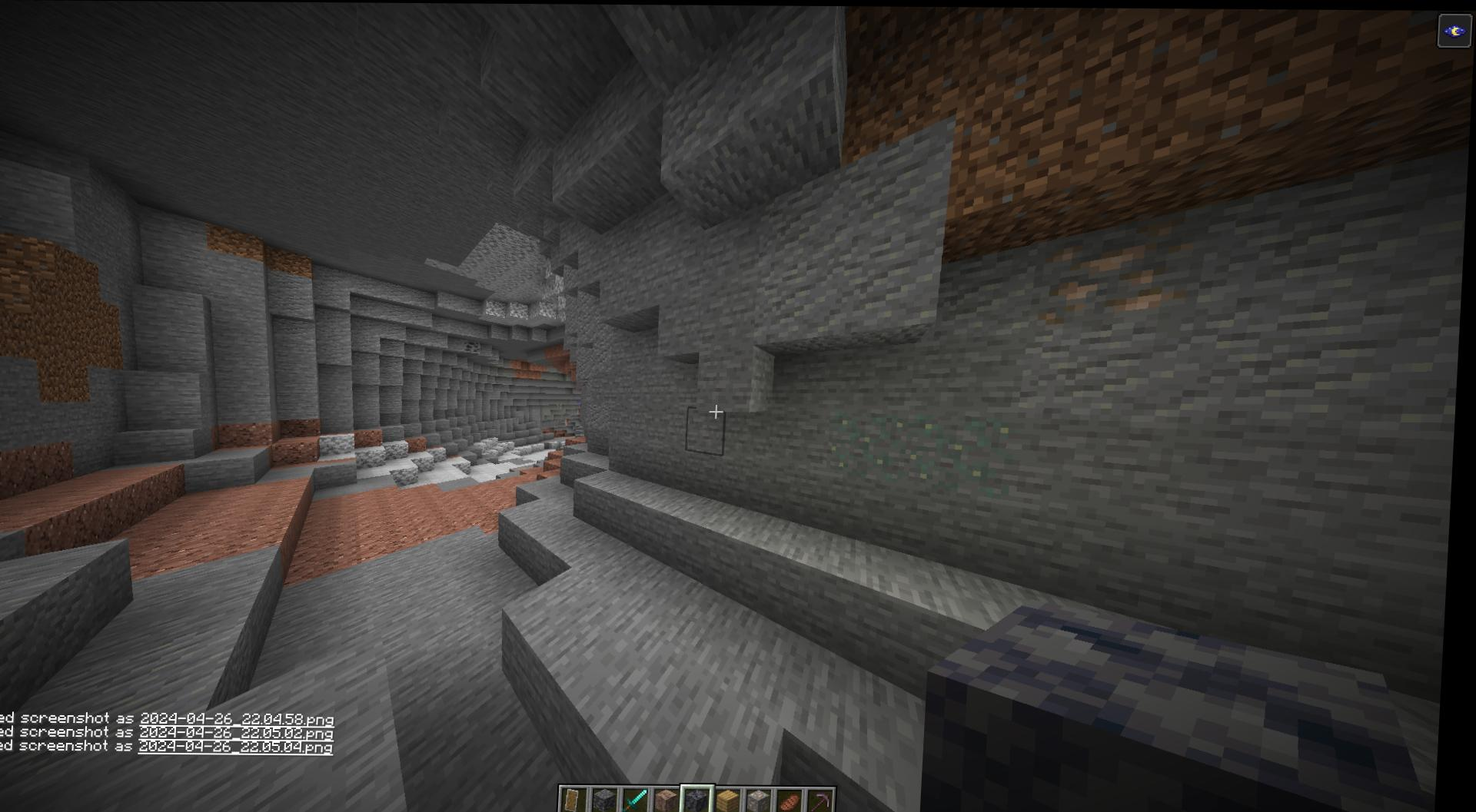iron ore: (1049, 223, 1182, 320)
